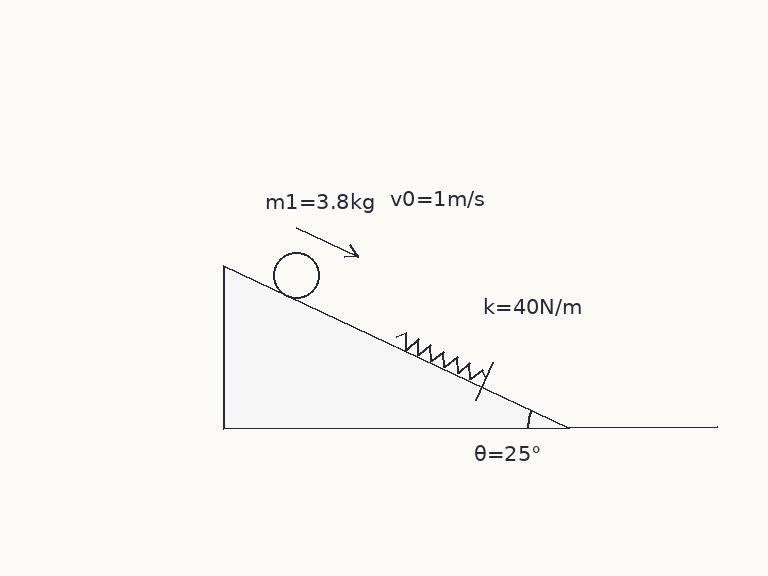ball: (271, 250, 321, 300)
ramp: (221, 264, 570, 429)
spring: (394, 331, 487, 381)
